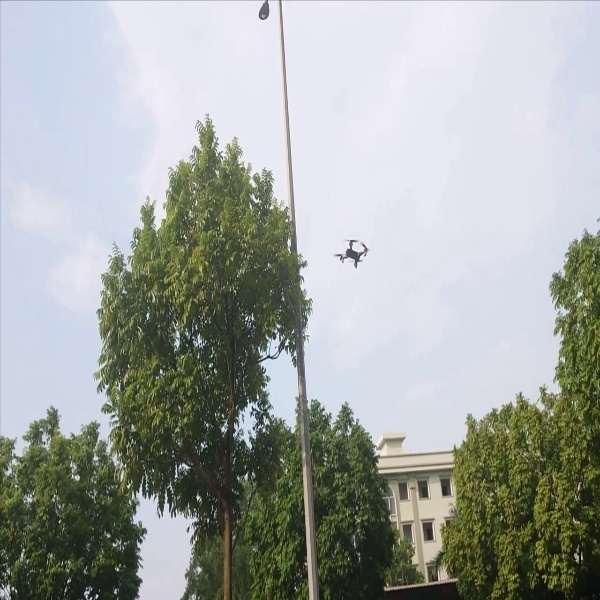drone: (331, 234, 373, 272)
